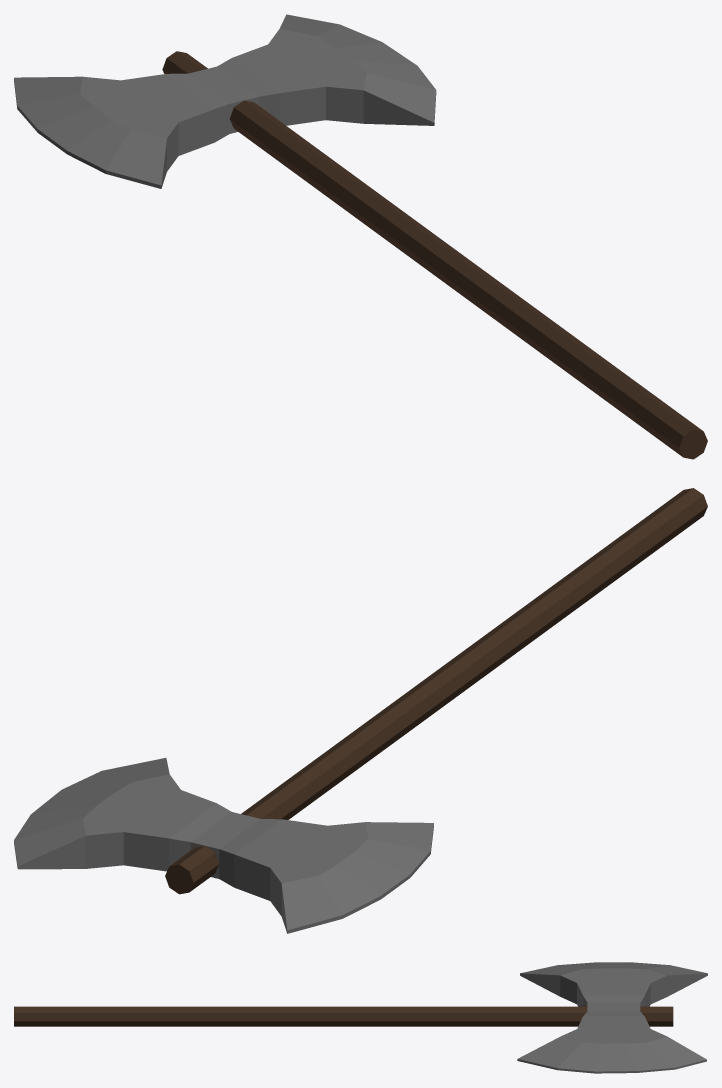
Rendered from Axe.fbx.
3 renders of one model, top to bottom at view 1: azimuth 30°, elevation 25°; view 2: azimuth 150°, elevation 25°; view 3: azimuth 270°, elevation 25°, orthographic. The views are drawn at different scales.
Visible parts, largest first — view 1: Blade, Handle; view 2: Blade, Handle; view 3: Blade, Handle.
Part boxes in pixels (left/top/right/bottom): Blade: left=14, top=14, right=436, bottom=188; Handle: left=162, top=51, right=707, bottom=459; Blade: left=14, top=758, right=433, bottom=933; Handle: left=165, top=488, right=707, bottom=894; Blade: left=517, top=962, right=707, bottom=1073; Handle: left=14, top=1006, right=673, bottom=1026.
Size of the model in its own units: 0.3655 by 0.0334 by 0.9832.
